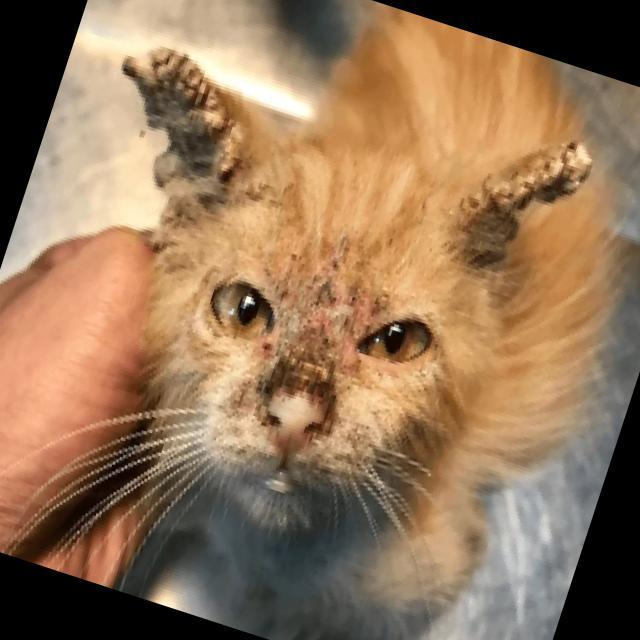Mange: (455, 136, 594, 266), (118, 48, 228, 135), (298, 268, 346, 334), (339, 282, 393, 322), (326, 303, 366, 357), (248, 357, 284, 408), (280, 241, 320, 276), (252, 328, 287, 362), (266, 276, 300, 308)
